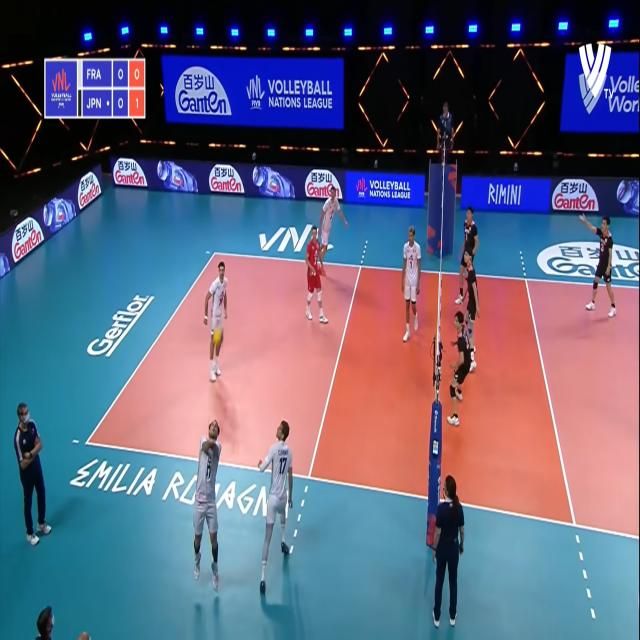player: (258, 418, 292, 594), (192, 417, 224, 598), (577, 214, 623, 321), (202, 257, 230, 381), (461, 250, 485, 382), (321, 180, 348, 274), (399, 226, 421, 341), (307, 224, 326, 322), (455, 312, 469, 428), (461, 211, 475, 303)
